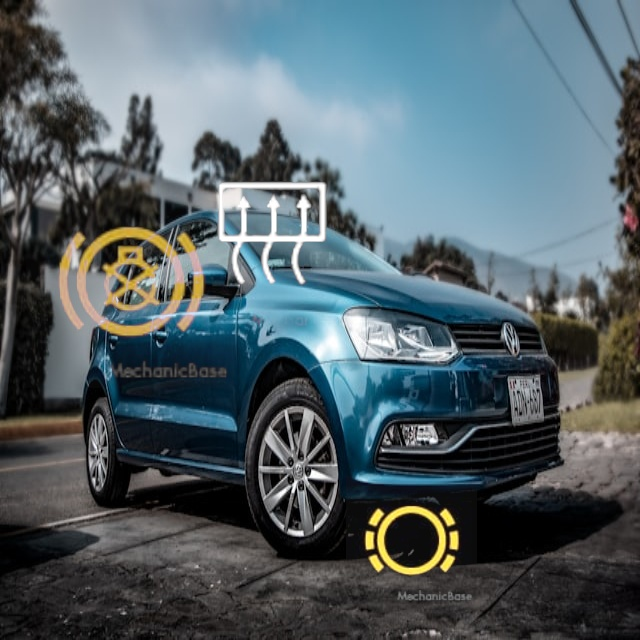symbol: (26, 179, 235, 388), (173, 136, 373, 336), (346, 476, 477, 607)
